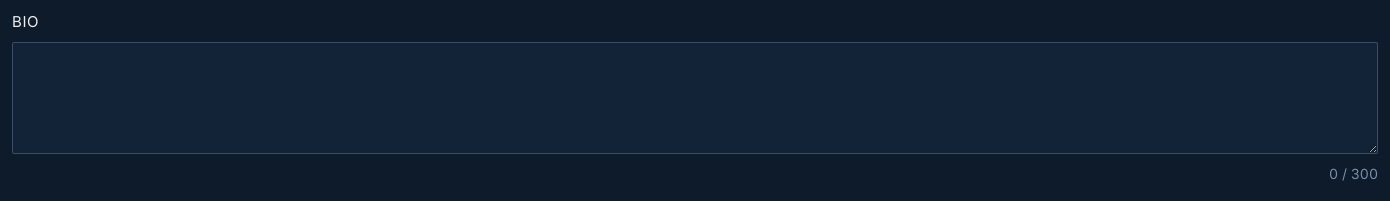
Textarea › shows a live character count against the maximum
Type "hello" into the text box labelled "Bio" at [695, 98], box 12,42 -> 1378,154
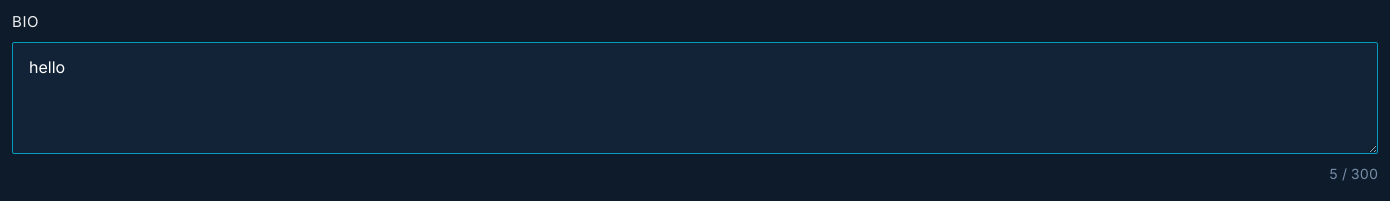
Expected: the text "5 / 300" is shown, 1329,164 -> 1378,184
